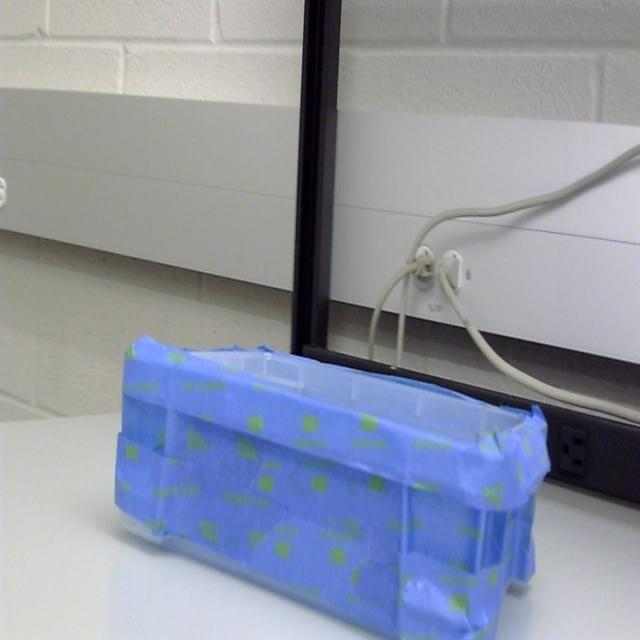bucket: (112, 337, 551, 640)
